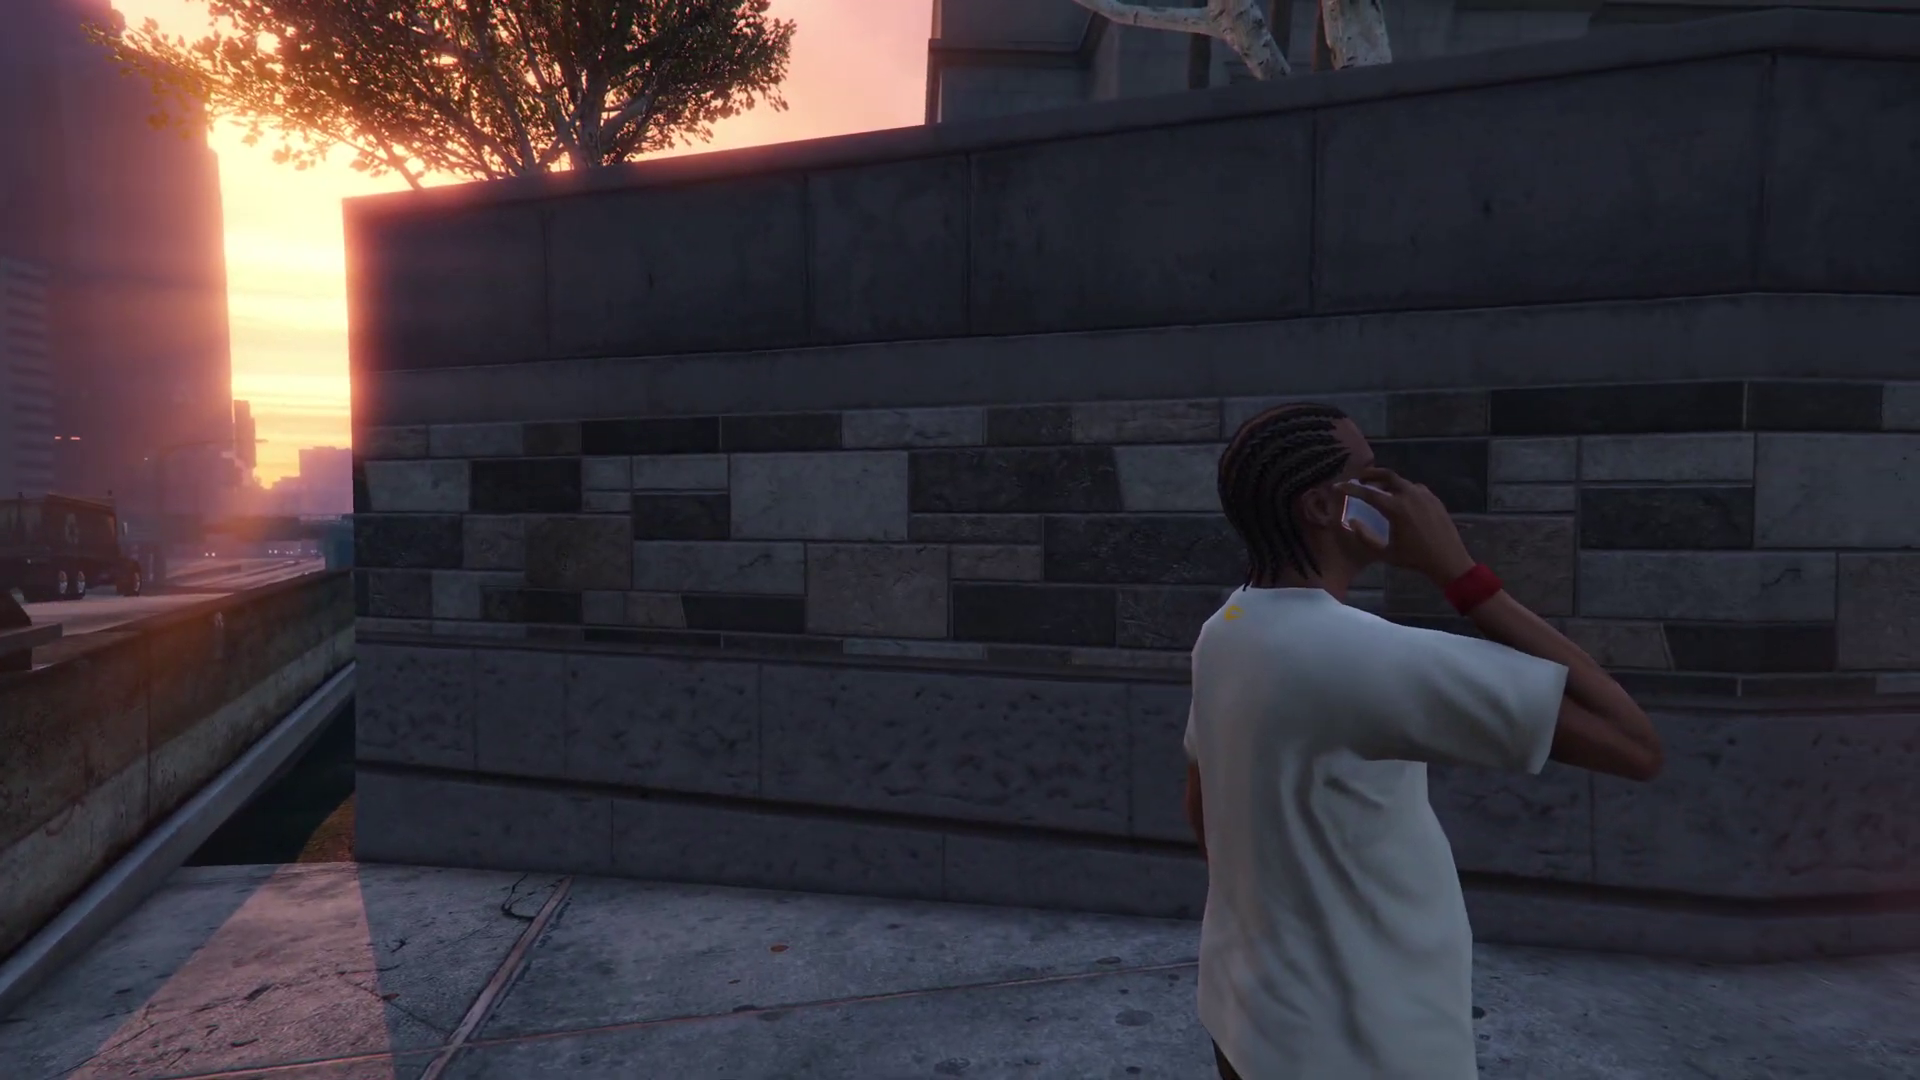car: (1, 498, 149, 601)
person: (1190, 408, 1656, 1080)
